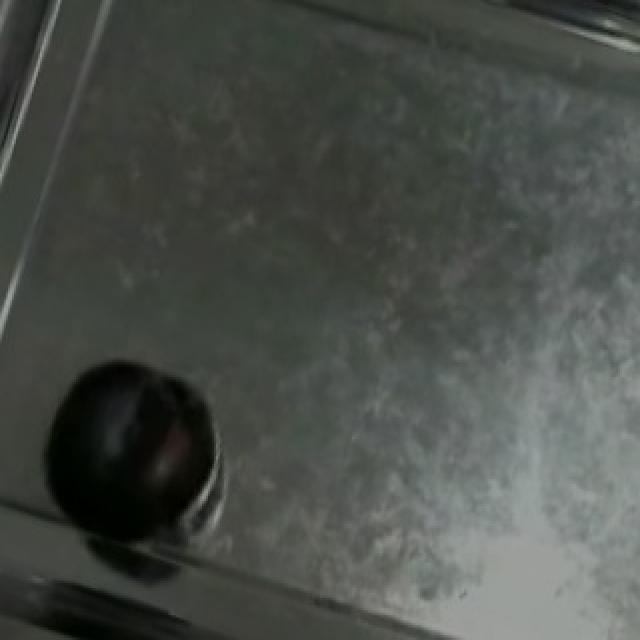Fruit: (28, 347, 226, 573)
